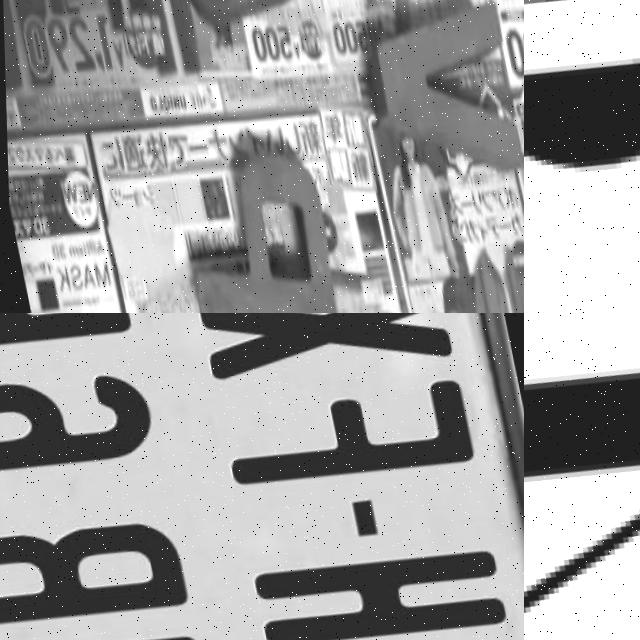6: (0, 351, 162, 495)
8: (524, 0, 640, 216)
B: (0, 499, 191, 640)
F: (217, 357, 476, 497)
H: (255, 528, 511, 640), (0, 313, 136, 371)
P: (175, 143, 340, 313)
V: (354, 0, 524, 183)
X: (196, 313, 452, 390)
